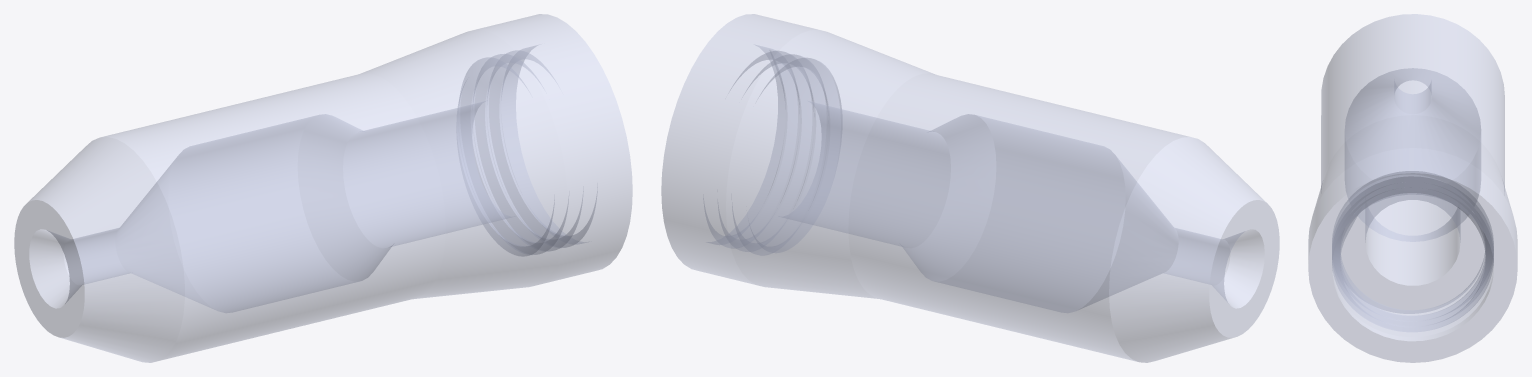
The model's file is ipx5_nozzle.glb.
3 renders of one model, left to right at view 1: azimuth 30°, elevation 25°; view 2: azimuth 150°, elevation 25°; view 3: azimuth 270°, elevation 25°, orthographic. The views are drawn at different scales.
Visible parts, largest first — view 1: ipx5_nozzle-1; view 2: ipx5_nozzle-1; view 3: ipx5_nozzle-1.
Boxes of the visible parts, bbox=[...] form: ipx5_nozzle-1: bbox=[14, 14, 632, 362]; ipx5_nozzle-1: bbox=[661, 14, 1279, 362]; ipx5_nozzle-1: bbox=[1308, 14, 1517, 362].
Bounding box in the file's own units: 0.08 × 0.0353 × 0.0353.
